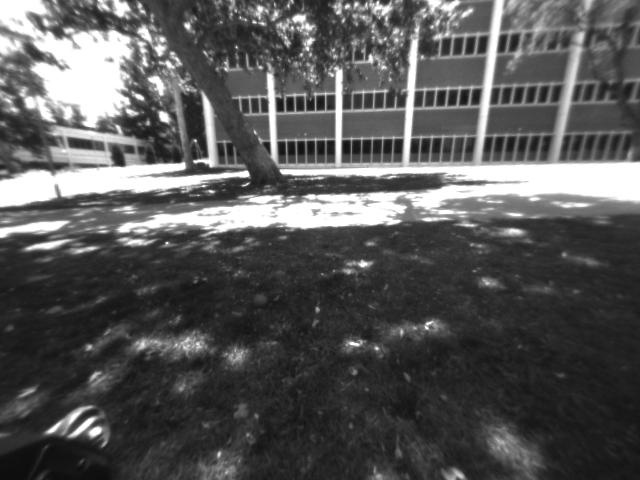dogtoy: (249, 288, 276, 311)
